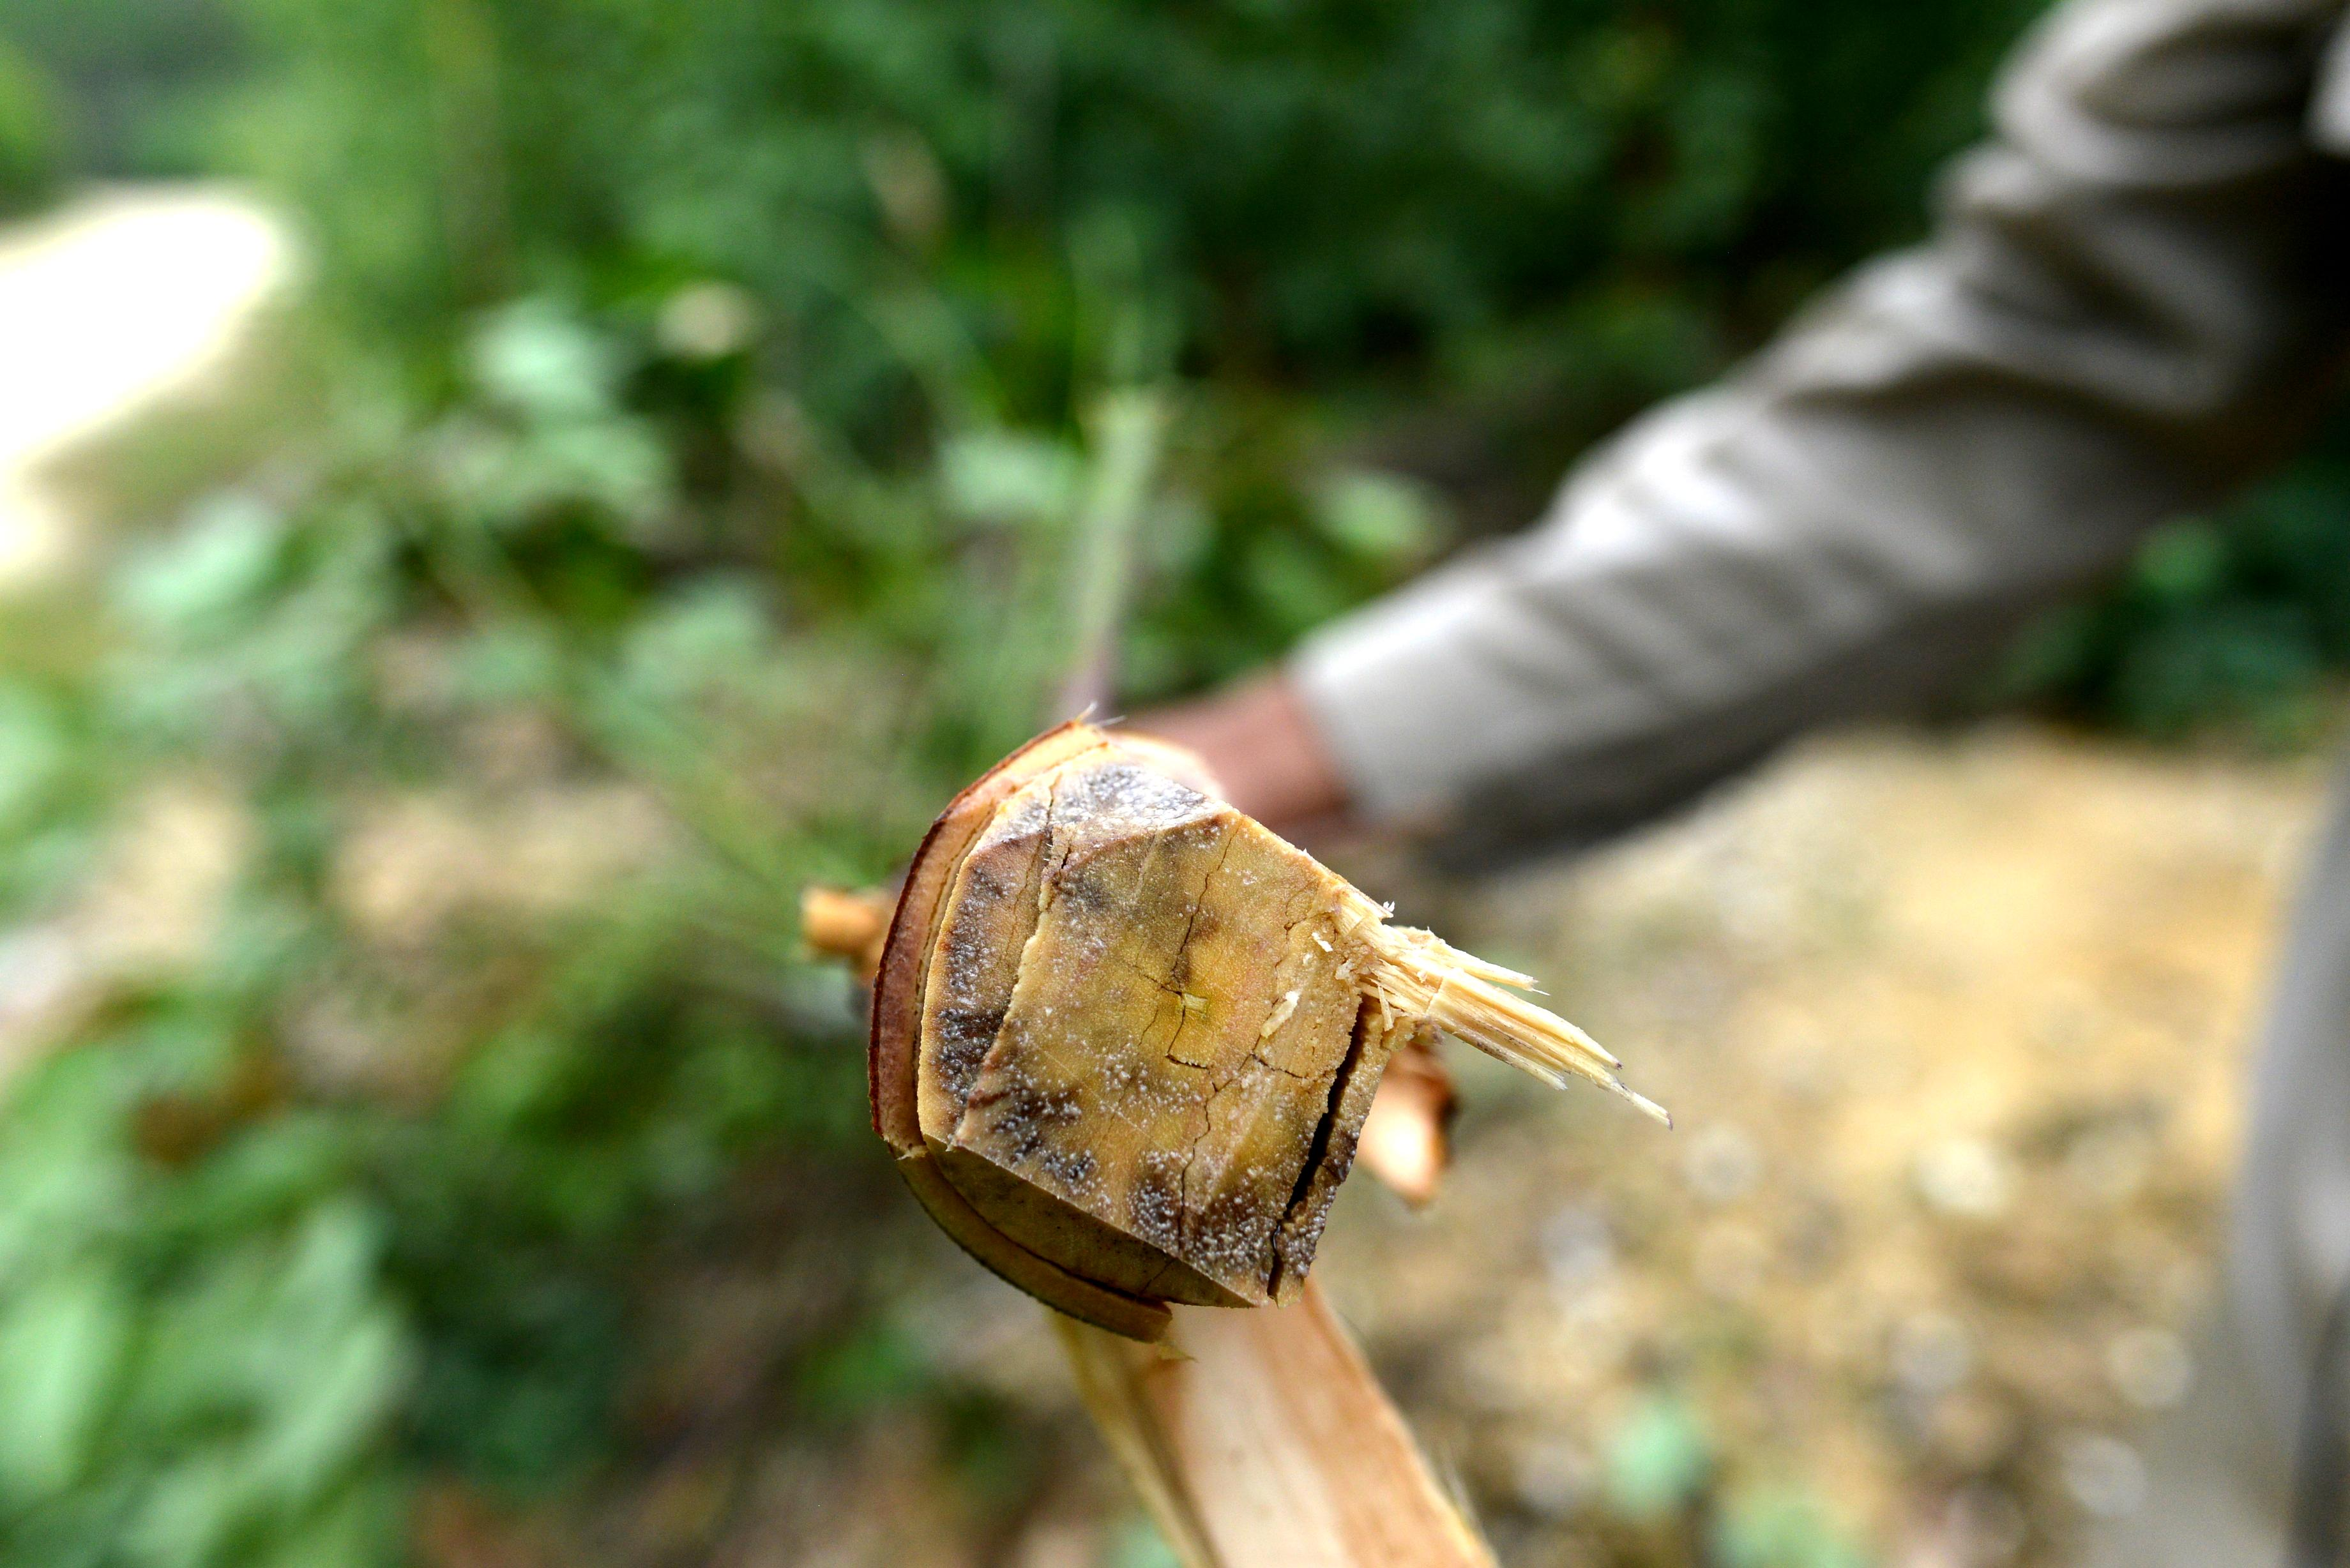Ralstonia: (919, 945, 1375, 1307), (964, 752, 1239, 850), (943, 856, 1274, 933)
